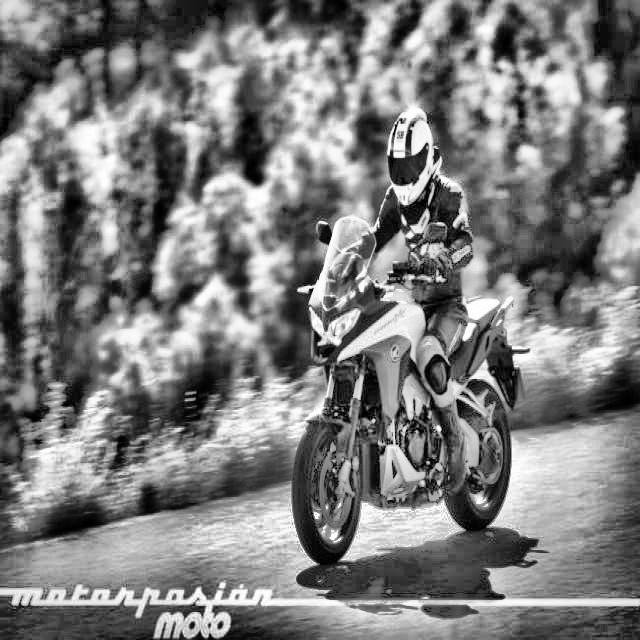Helmet: (385, 102, 436, 212)
